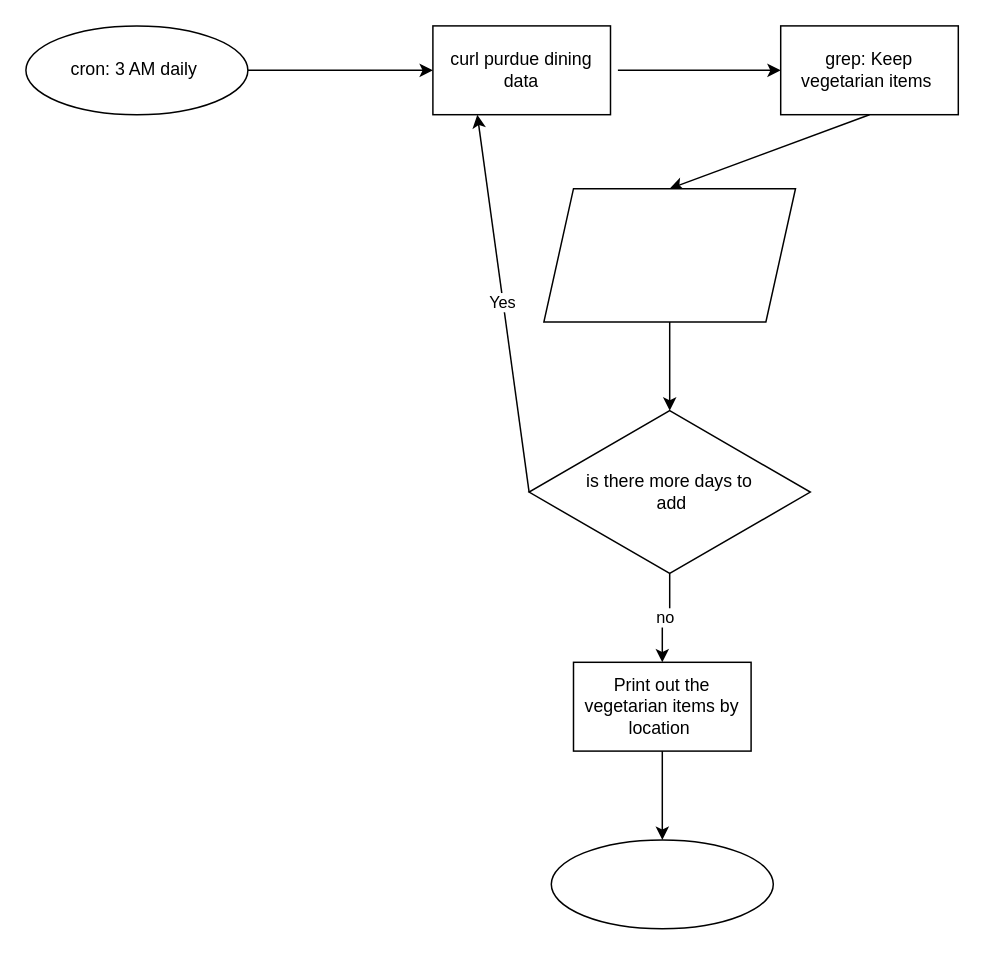
The diagram is 984 pixels wide and 955 high, and some of its shapes have lost their labels. The centre of each missing label's shape, as x and y in pixels:
"END" goes at [661,883].
"Read into a text file." goes at [669,254].
